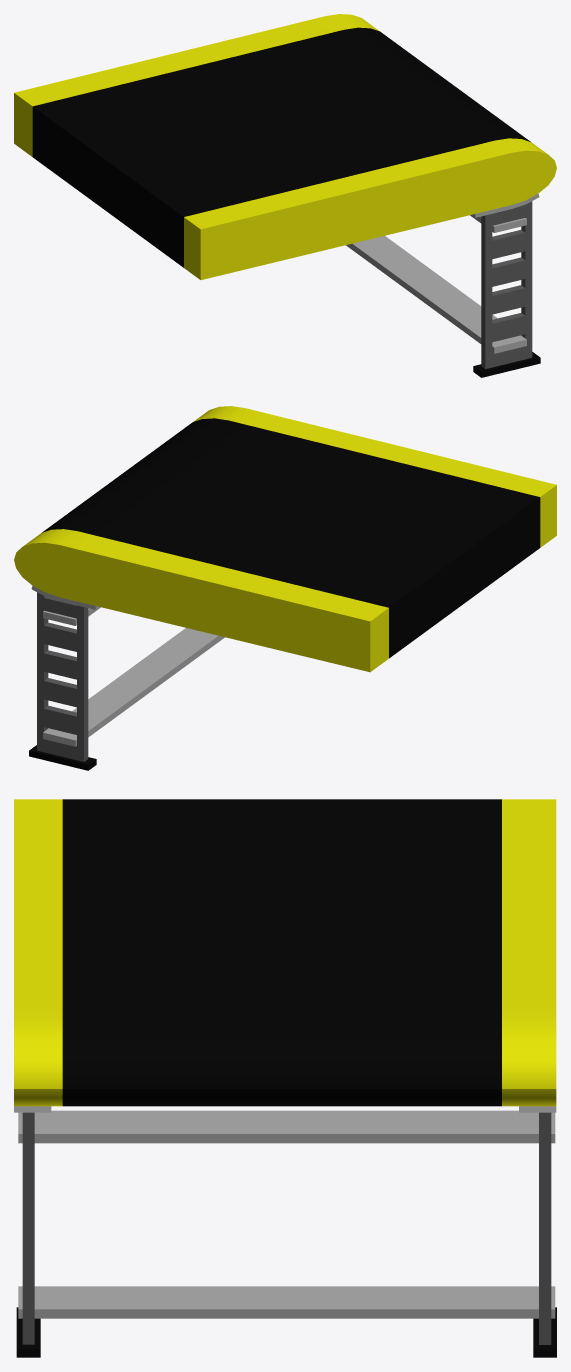
Rendered from ConveyorBeltEnd.fbx.
3 renders of one model, top to bottom at view 1: azimuth 30°, elevation 25°; view 2: azimuth 150°, elevation 25°; view 3: azimuth 270°, elevation 25°, orthographic. The views are drawn at different scales.
Parts seen in each view (by area): view 1: polySurface42; view 2: polySurface42; view 3: polySurface42.
Part boxes in pixels (bbox=[...]): polySurface42: bbox=[14, 14, 556, 377]; polySurface42: bbox=[14, 406, 556, 770]; polySurface42: bbox=[14, 799, 556, 1357].
Size of the model in its own units: 2.31 by 1.36 by 2.1.
